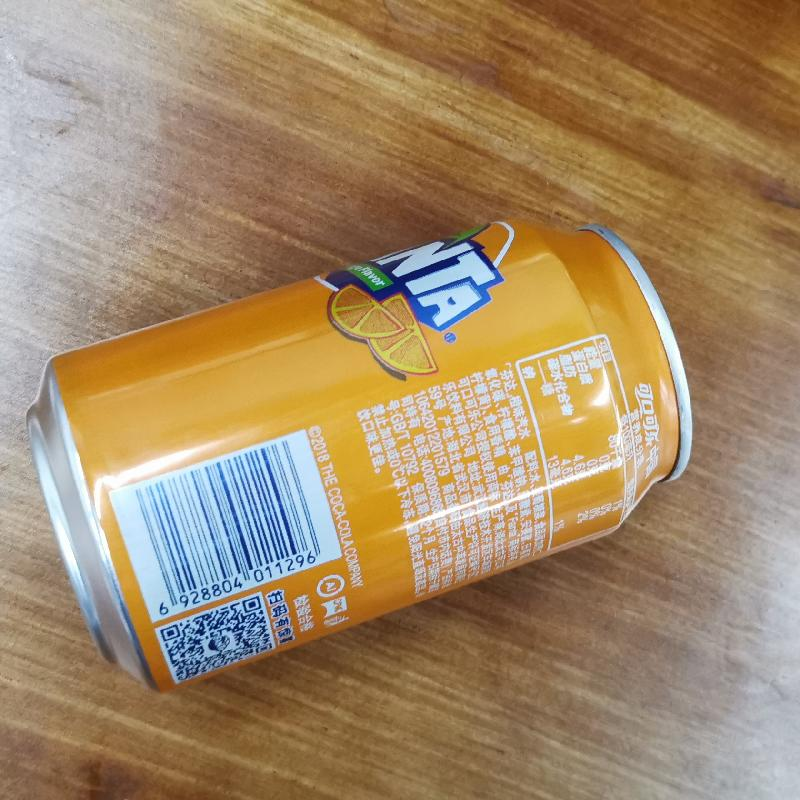cans: (22, 216, 696, 693)
